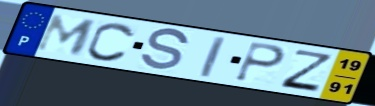C: (85, 21, 138, 63)
I: (198, 34, 228, 80)
M: (32, 13, 101, 57)
P: (232, 40, 289, 84)
S: (137, 27, 191, 72)
Z: (277, 48, 336, 94)
